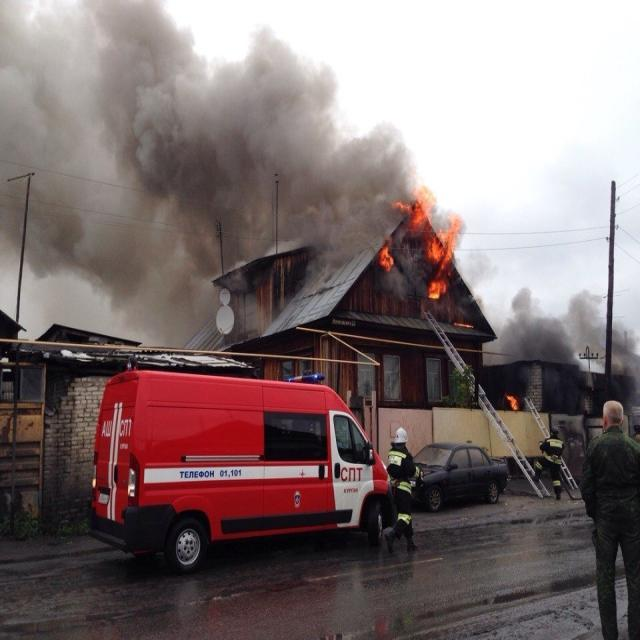Fire: (399, 183, 467, 300), (378, 243, 397, 274), (506, 391, 518, 412)
Smoke: (0, 0, 422, 337), (495, 282, 640, 379)
